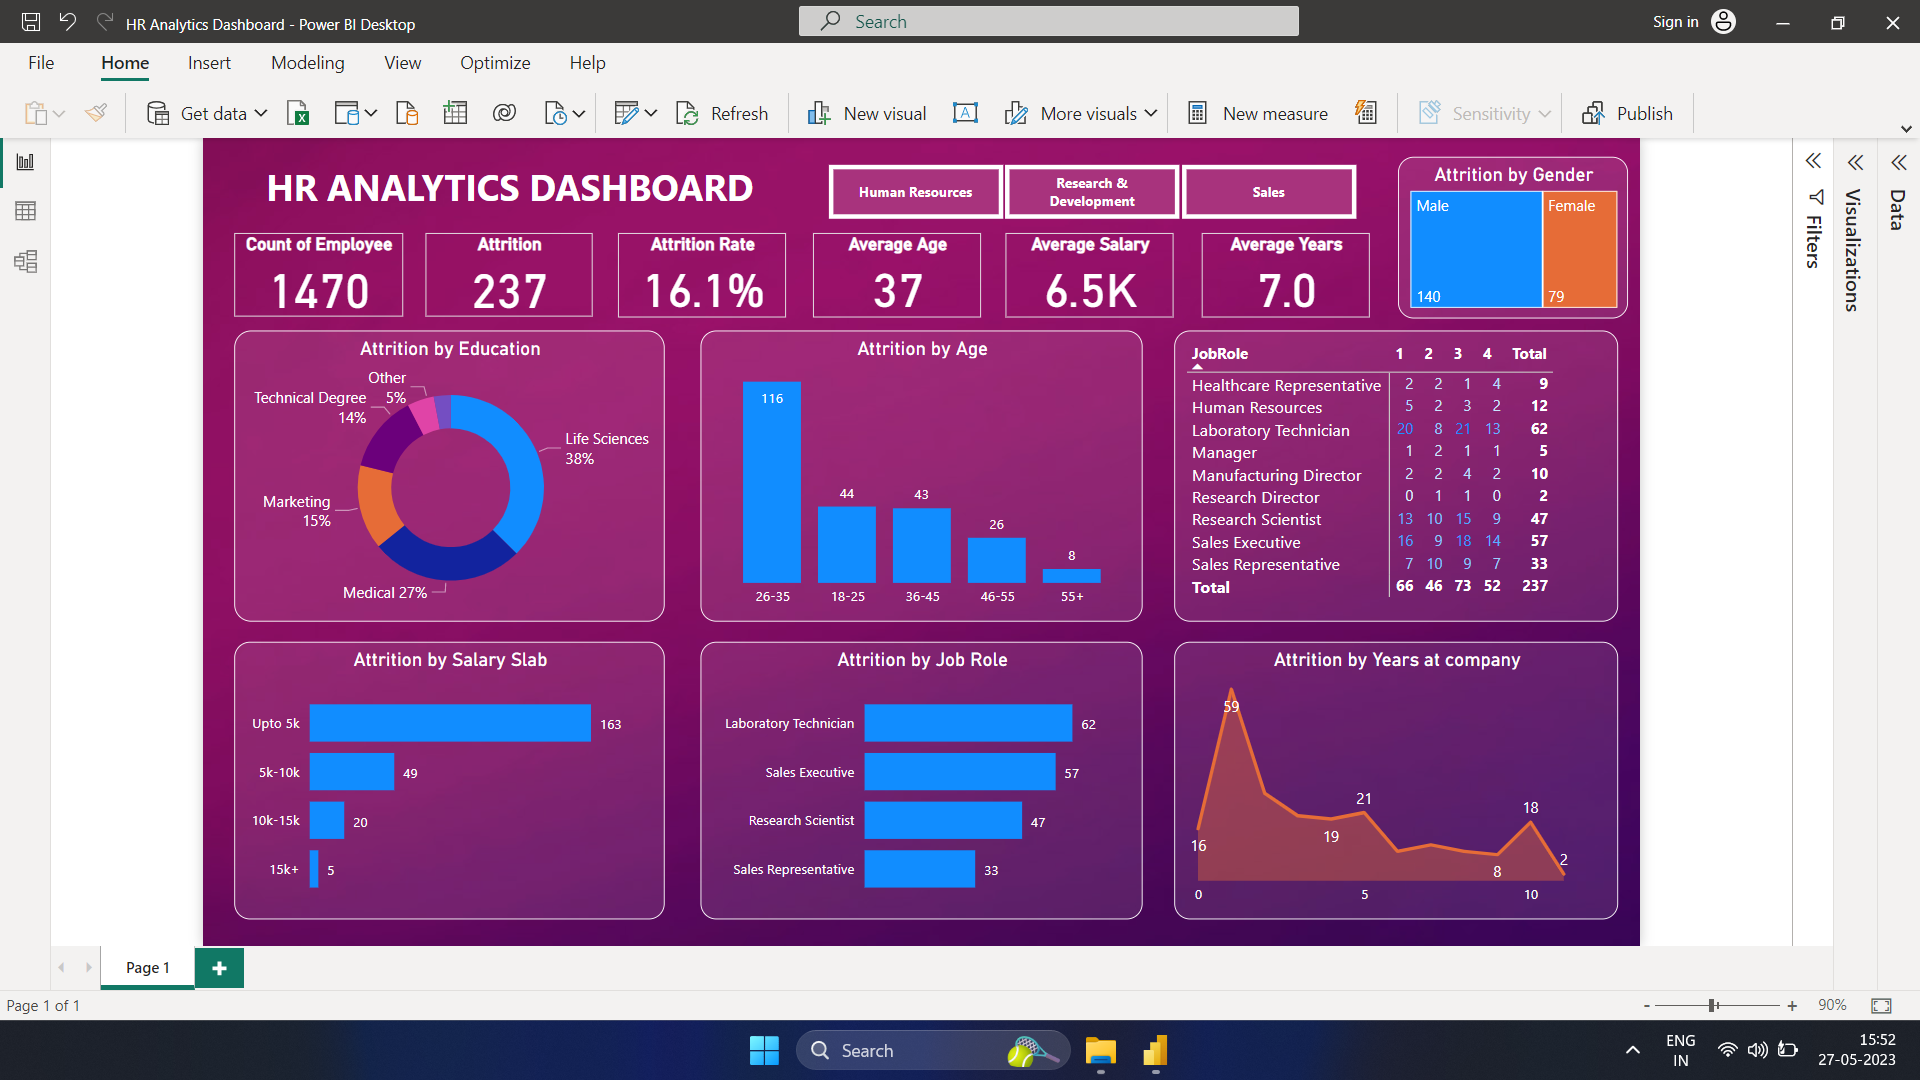

The dashboard page shown, as its layout file describes it:
{"tool":"powerbi","page":{"name":"Page 1","canvas":[1280,720],"ordinal":0},"visuals":[{"type":"card","title":"Count of Employee","fields":{"Values":["Count(HR_Analytics.EmpID)"]},"box":[27.3,84.8,150,74.2],"z":0},{"type":"card","title":"Attrition","fields":{"Values":["Sum(HR_Analytics.AttritionCount)"]},"box":[198.5,84.8,148.5,74.2],"z":1000},{"type":"card","title":"Attrition Rate","fields":{"Values":["HR_Analytics.AttritionRate"]},"box":[369.3,84.7,149.8,74.9],"z":2000},{"type":"card","title":"Average Age ","fields":{"Values":["Avg(HR_Analytics.Age)"]},"box":[543.5,84.7,149.8,74.9],"z":3000},{"type":"card","title":"Average Salary","fields":{"Values":["Avg(HR_Analytics.MonthlyIncome)"]},"box":[714.9,84.7,149.8,74.9],"z":4000},{"type":"card","title":"Average Years","fields":{"Values":["Avg(HR_Analytics.YearsAtCompany)"]},"box":[889.1,84.7,149.8,74.9],"z":5000},{"type":"donutChart","title":"Attrition by Education","fields":{"Category":["HR_Analytics.EducationField"],"Y":["Sum(HR_Analytics.AttritionCount)"]},"box":[27.3,171.2,383.3,259.1],"z":6000},{"type":"columnChart","title":"Attrition by Age","fields":{"Category":["HR_Analytics.AgeGroup"],"Y":["Sum(HR_Analytics.AttritionCount)"]},"box":[442.4,171.2,393.9,259.1],"z":7000},{"type":"pivotTable","fields":{"Rows":["HR_Analytics.JobRole"],"Columns":["HR_Analytics.JobSatisfaction"],"Values":["Sum(HR_Analytics.AttritionCount)"]},"box":[865.2,171.2,395.5,259.1],"z":8000},{"type":"barChart","title":"Attrition by Salary Slab","fields":{"Category":["HR_Analytics.SalarySlab"],"Y":["Sum(HR_Analytics.AttritionCount)"]},"box":[27.3,448.5,383.3,247],"z":9000},{"type":"barChart","title":"Attrition by Job Role","fields":{"Category":["HR_Analytics.JobRole"],"Y":["Sum(HR_Analytics.AttritionCount)"]},"box":[442.4,448.5,393.9,247],"z":10000},{"type":"areaChart","title":"Attrition by Years at company","fields":{"Y":["Sum(HR_Analytics.AttritionCount)"],"Category":["HR_Analytics.YearsAtCompany"]},"box":[865.2,448.5,395.5,247],"z":11000},{"type":"treemap","title":"Attrition by Gender","fields":{"Group":["HR_Analytics.Gender"],"Values":["Sum(HR_Analytics.AttritionCount)"]},"box":[1063.6,16.7,204.5,143.9],"z":12000},{"type":"slicer","fields":{"Values":["HR_Analytics.Department"]},"box":[530.3,16.7,519.7,56.1],"z":13000},{"type":"textbox","title":"HR ANALYTICS DASHBOARD","box":[19.7,16.7,506.1,55],"z":14000}]}

Visuals, with their boxes on the page's 1280x720 design canvas (x1, y1, x2, y2). These are canvas units, not pixel positions in the 1920x1080 screenshot, which may show the page scaled, cropped or inside an application window:
"Count of Employee" card: box(27, 85, 177, 159)
"Attrition" card: box(198, 85, 347, 159)
"Attrition Rate" card: box(369, 85, 519, 160)
"Average Age " card: box(544, 85, 693, 160)
"Average Salary" card: box(715, 85, 865, 160)
"Average Years" card: box(889, 85, 1039, 160)
"Attrition by Education" donutChart: box(27, 171, 411, 430)
"Attrition by Age" columnChart: box(442, 171, 836, 430)
pivotTable - HR_Analytics.JobRole x HR_Analytics.JobSatisfaction: box(865, 171, 1261, 430)
"Attrition by Salary Slab" barChart: box(27, 448, 411, 696)
"Attrition by Job Role" barChart: box(442, 448, 836, 696)
"Attrition by Years at company" areaChart: box(865, 448, 1261, 696)
"Attrition by Gender" treemap: box(1064, 17, 1268, 161)
slicer - HR_Analytics.Department: box(530, 17, 1050, 73)
"HR ANALYTICS DASHBOARD" textbox: box(20, 17, 526, 72)
